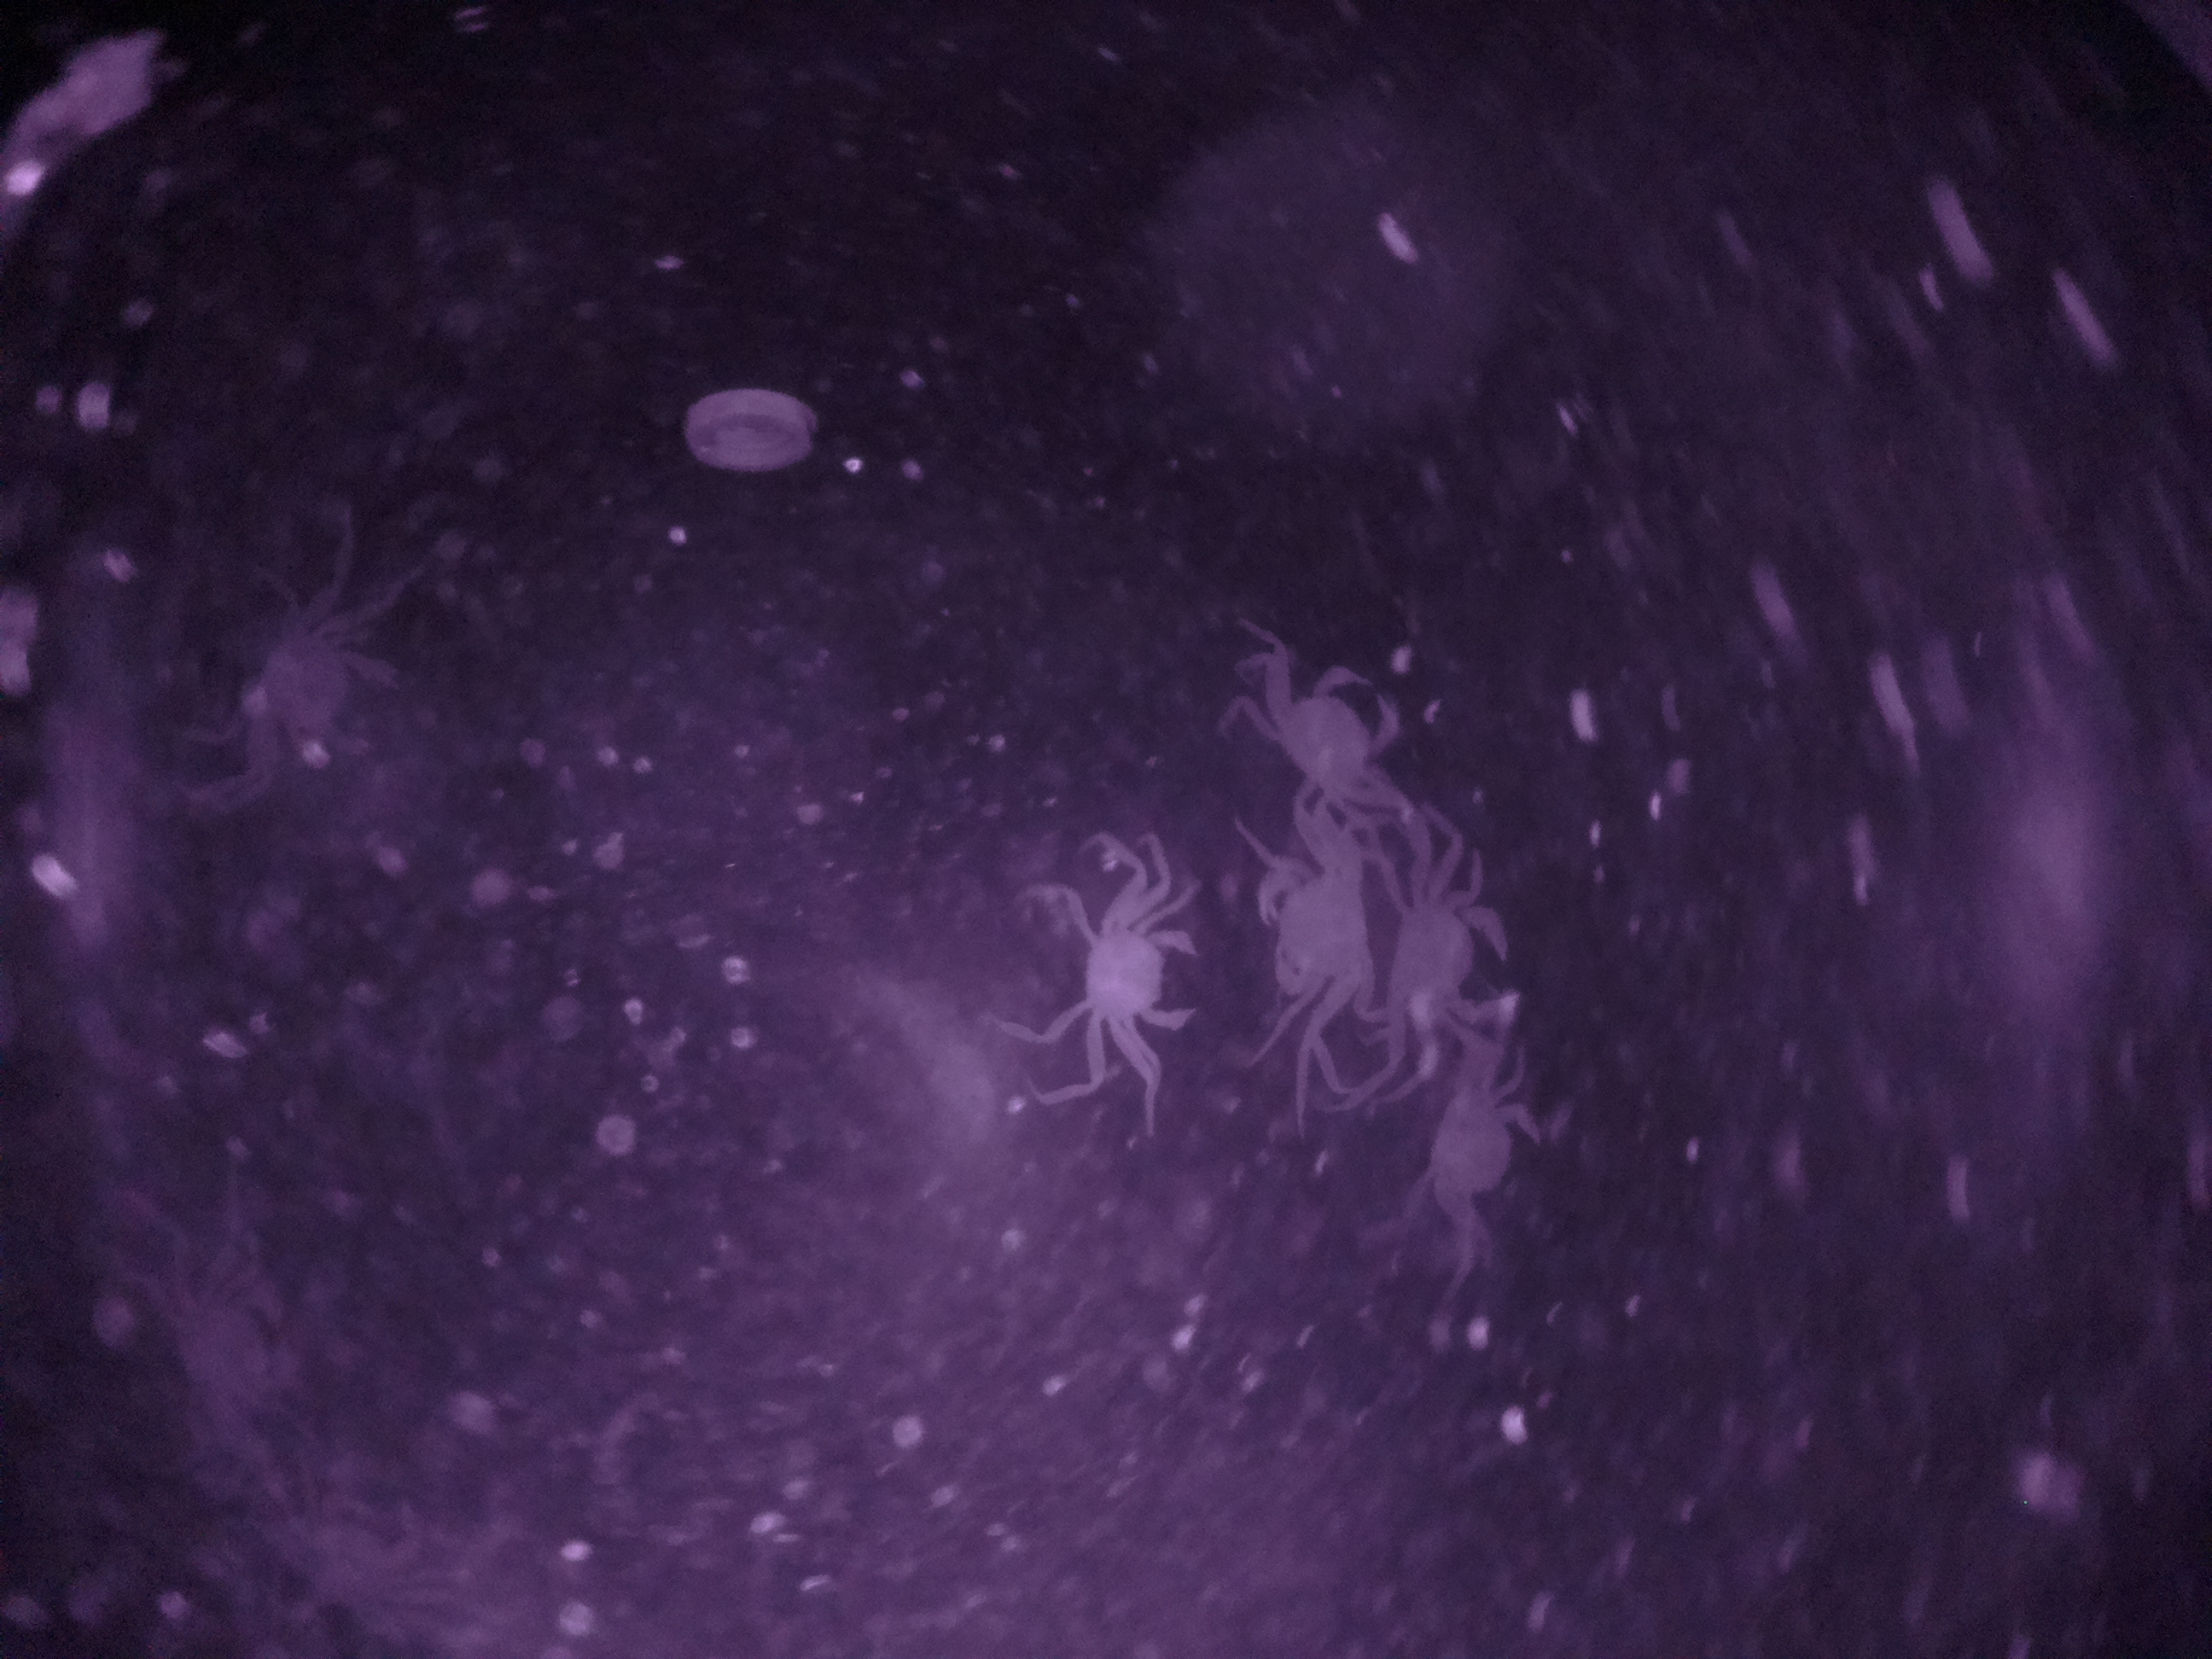Crab: (1205, 619, 1411, 829), (1378, 856, 1561, 1070), (1226, 826, 1381, 1049), (1040, 871, 1209, 1073), (1395, 1060, 1555, 1258)
